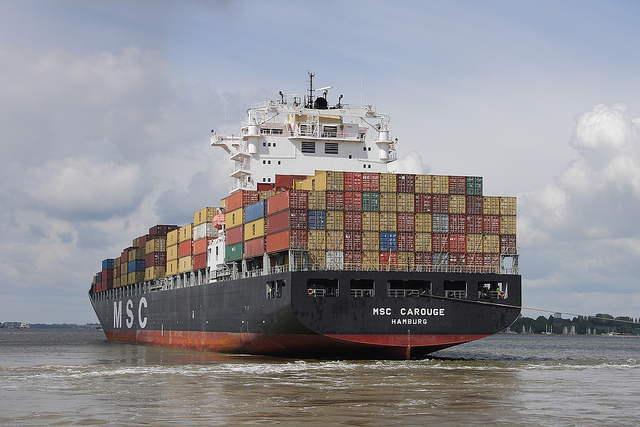container_ship: (90, 71, 523, 357)
